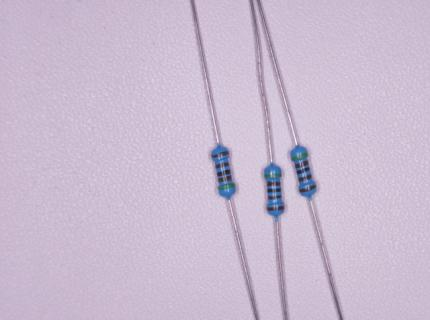Black band: (297, 166, 311, 175), (216, 169, 231, 177), (267, 188, 281, 193)
Brown band: (298, 185, 318, 194), (211, 151, 230, 159), (298, 174, 313, 183), (294, 160, 309, 169), (218, 175, 232, 183), (267, 206, 285, 212), (215, 162, 230, 169), (267, 195, 282, 200), (267, 181, 281, 186)
Green band: (291, 152, 309, 161), (218, 183, 236, 191), (264, 173, 282, 178)
